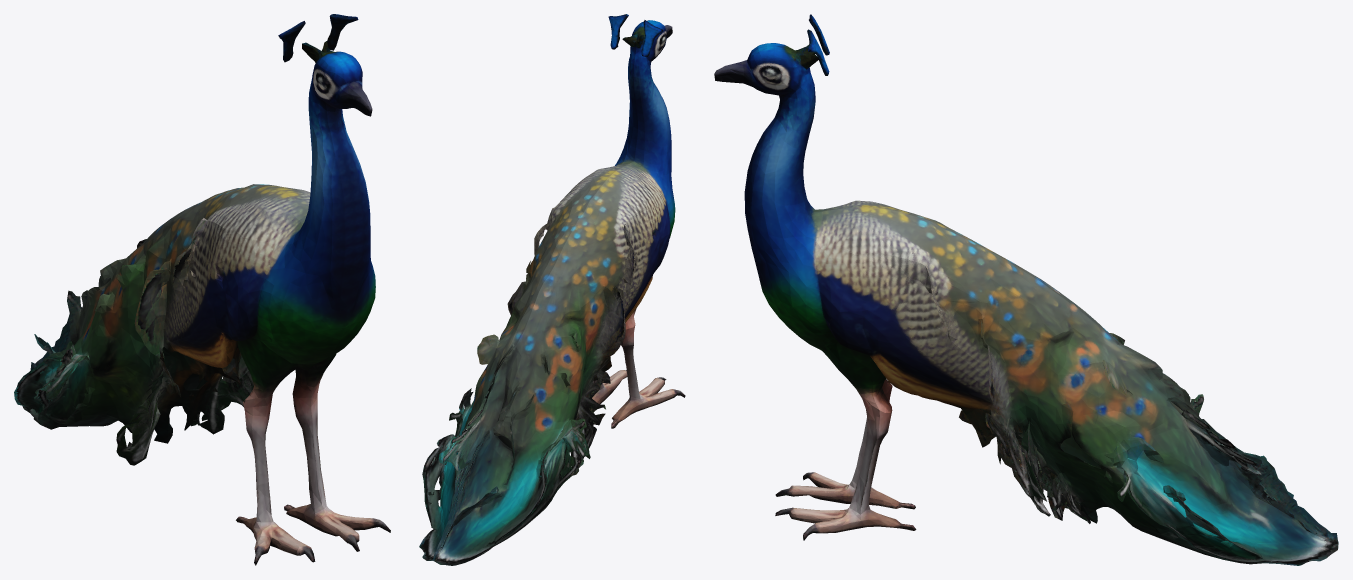
File: peacock1.glb
3 renders of one model, left to right at view 1: azimuth 30°, elevation 25°; view 2: azimuth 150°, elevation 25°; view 3: azimuth 270°, elevation 25°, orthographic. The views are drawn at different scales.
Visible parts, largest first — view 1: world.001; view 2: world.001; view 3: world.001.
Boxes of the visible parts, <box> form: world.001: <box>14,14,390,565</box>; world.001: <box>419,14,685,565</box>; world.001: <box>714,14,1338,565</box>.
Size of the model in its own units: 0.3464 by 0.9482 by 1.
Materials: 1 (1 with a texture image).
